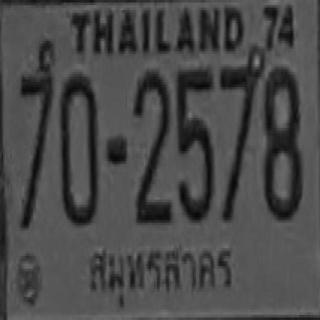N00: (59, 72, 96, 223)
N02: (134, 69, 170, 220)
N05: (176, 68, 212, 219)
N07: (218, 55, 260, 219), (18, 60, 52, 226)
N08: (262, 65, 300, 216)
P58: (88, 238, 241, 310)
